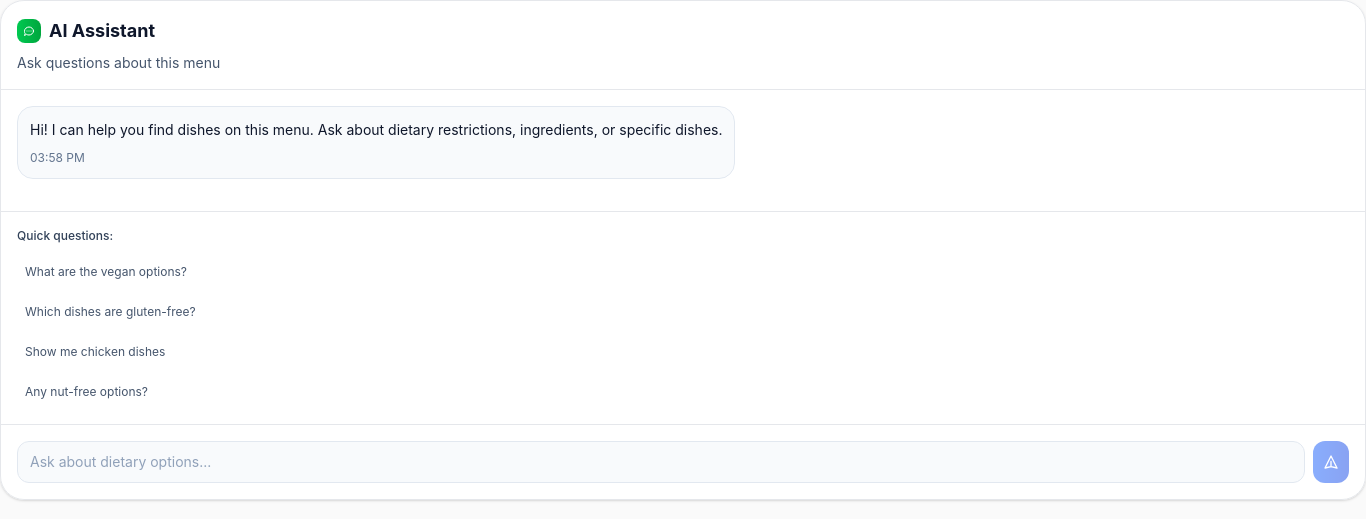
Test: ChatInterface › handles API errors gracefully
Type "Test message" into the field with placeholder "Ask about dietary options...". click: [661, 462]
box: [17,441,1305,483]
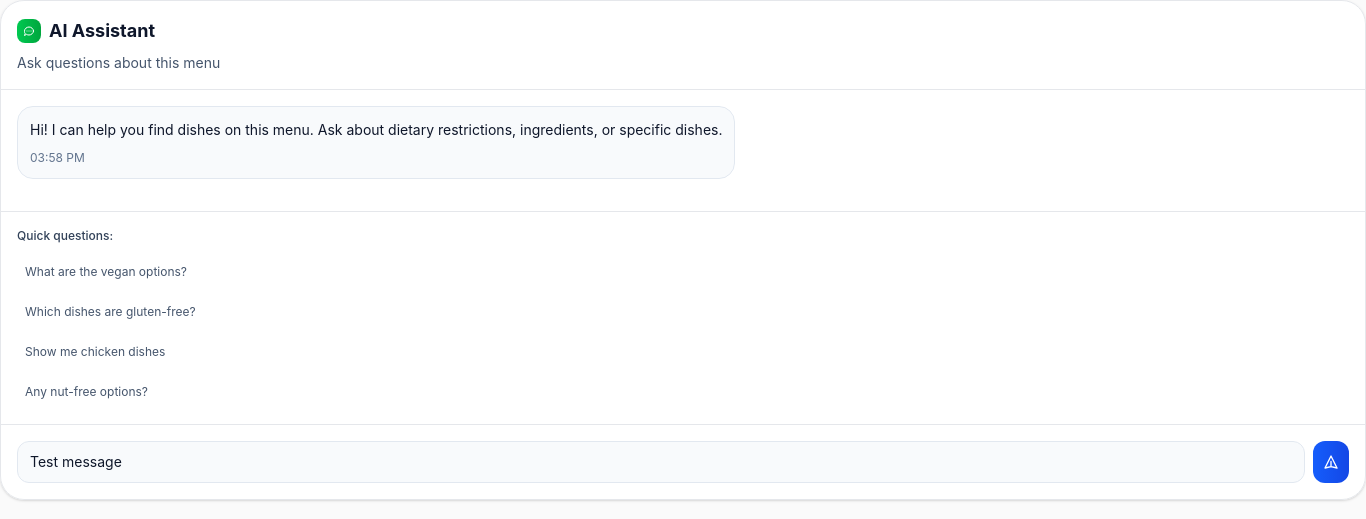
Click the 5th button. click: [1331, 462]
box: [1313,441,1349,483]
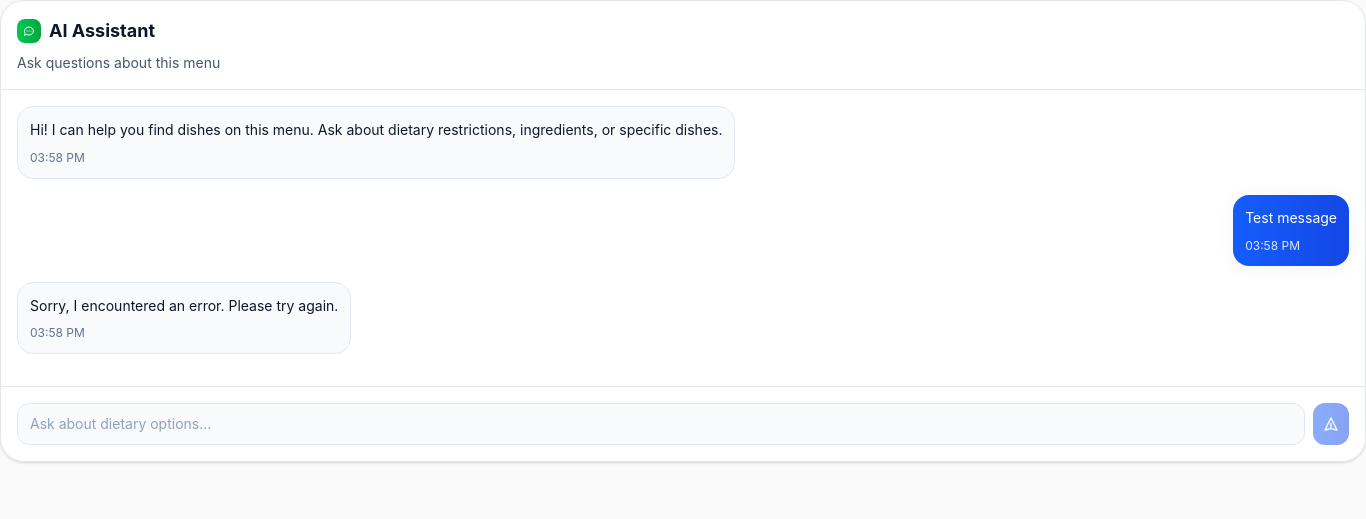
Expected: the text "Sorry, I encountered an error. Please try again." is shown, [30,294,338,317]
